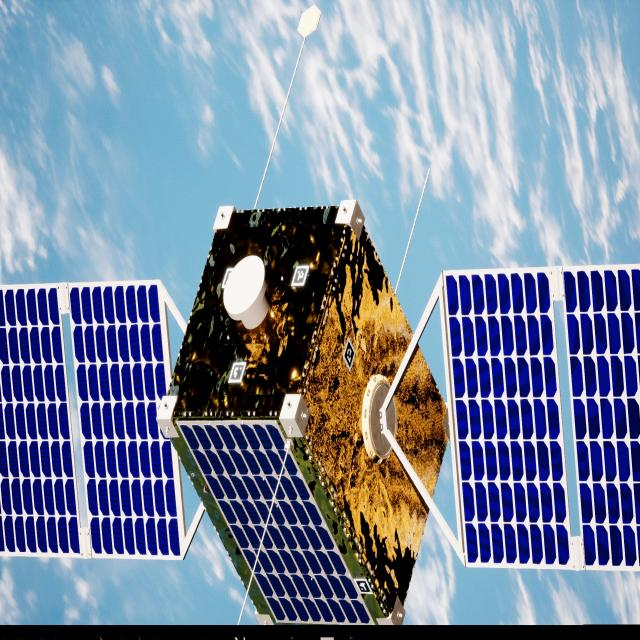satellite: (0, 201, 623, 626)
